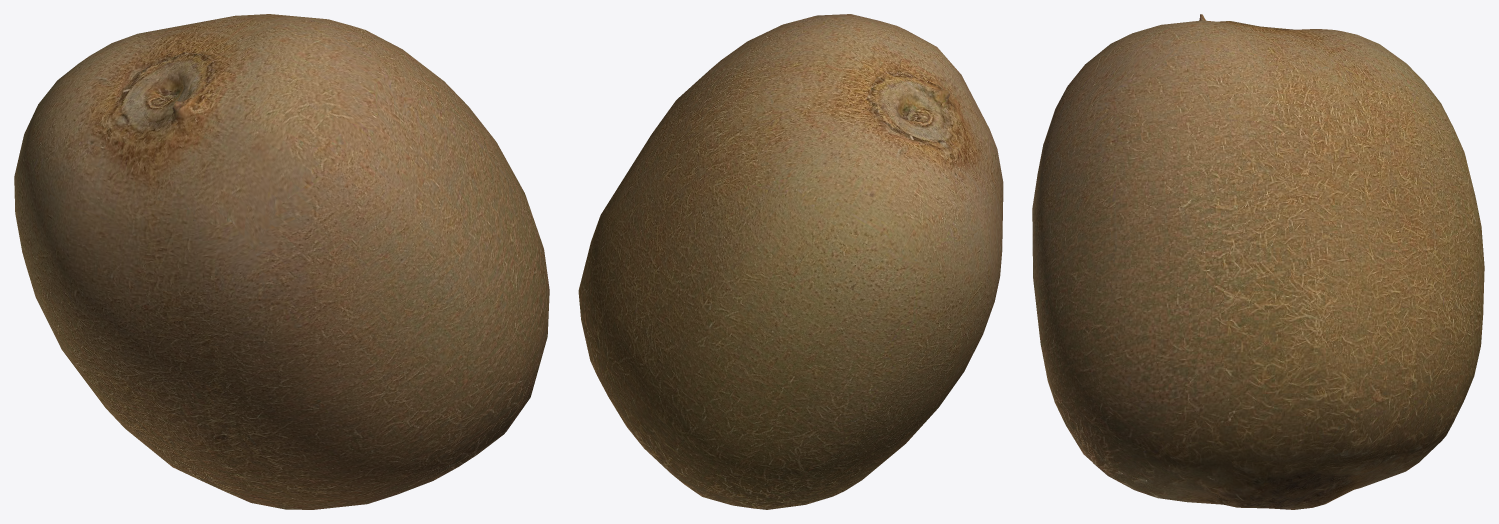
File: BrownFruitKwi.fbx
3 renders of one model, left to right at view 1: azimuth 30°, elevation 25°; view 2: azimuth 150°, elevation 25°; view 3: azimuth 270°, elevation 25°, orthographic. The views are drawn at different scales.
Parts seen in each view (by area): view 1: Kiwi; view 2: Kiwi; view 3: Kiwi.
Part boxes in pixels (x1=…): Kiwi: x1=14, y1=14, x2=549, y2=509; Kiwi: x1=578, y1=14, x2=1003, y2=509; Kiwi: x1=1032, y1=14, x2=1484, y2=509.
Bounding box in the file's own units: 0.0643 × 0.062 × 0.0688.
1 material, 1 textured.
